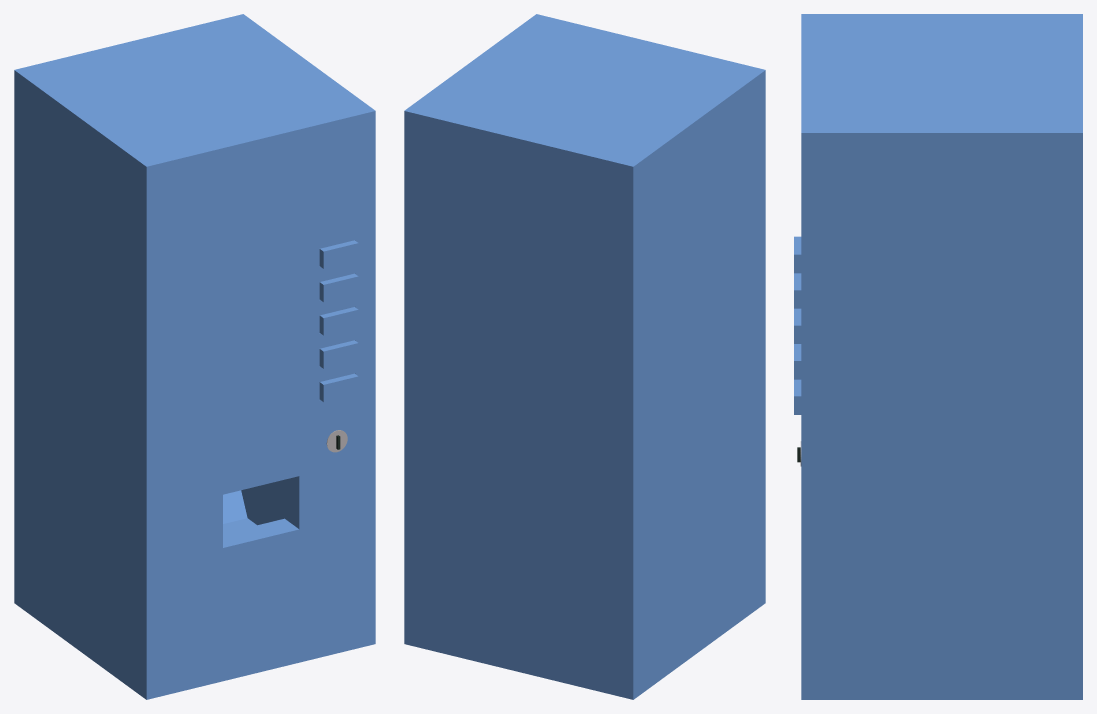
The model's file is VendingWithCoin.fbx.
The picture shows the model from 3 angles, left to right: view 1: azimuth 30°, elevation 25°; view 2: azimuth 150°, elevation 25°; view 3: azimuth 270°, elevation 25°; orthographic projection. The views are drawn at different scales.
Visible parts, largest first — view 1: SodaVendingMachine, SodaVendingMachineButton01, SodaVendingMachineButton05, SodaVendingMachineButton02, SodaVendingMachineButton03, SodaVendingMachineButton04; view 2: SodaVendingMachine; view 3: SodaVendingMachine.
Part boxes in pixels (x1,y1,x2,y2): SodaVendingMachine: (14, 14, 375, 699); SodaVendingMachineButton01: (319, 240, 358, 268); SodaVendingMachineButton05: (319, 373, 358, 402); SodaVendingMachineButton02: (319, 273, 358, 302); SodaVendingMachineButton03: (319, 307, 358, 335); SodaVendingMachineButton04: (319, 340, 358, 368); SodaVendingMachine: (404, 14, 765, 699); SodaVendingMachine: (801, 14, 1082, 699).
Size of the model in its own units: 90 by 200 by 92.35.
